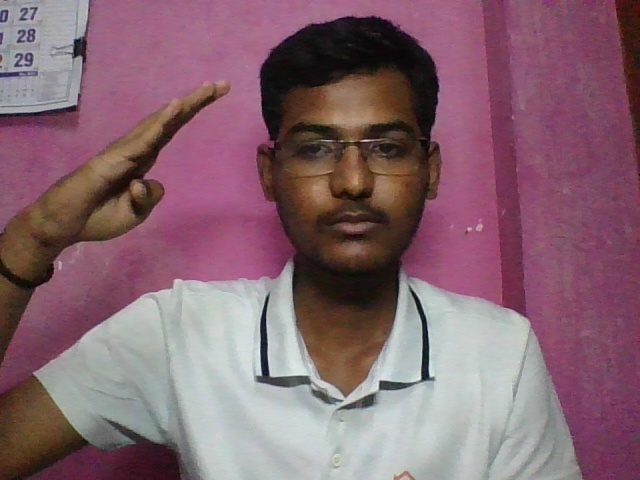Hello: (1, 72, 244, 296)
